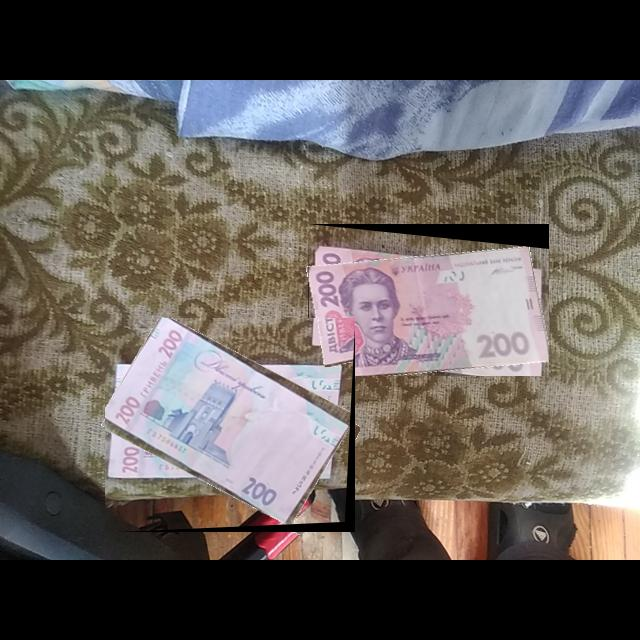200uah: (105, 318, 351, 527), (309, 243, 550, 377)
